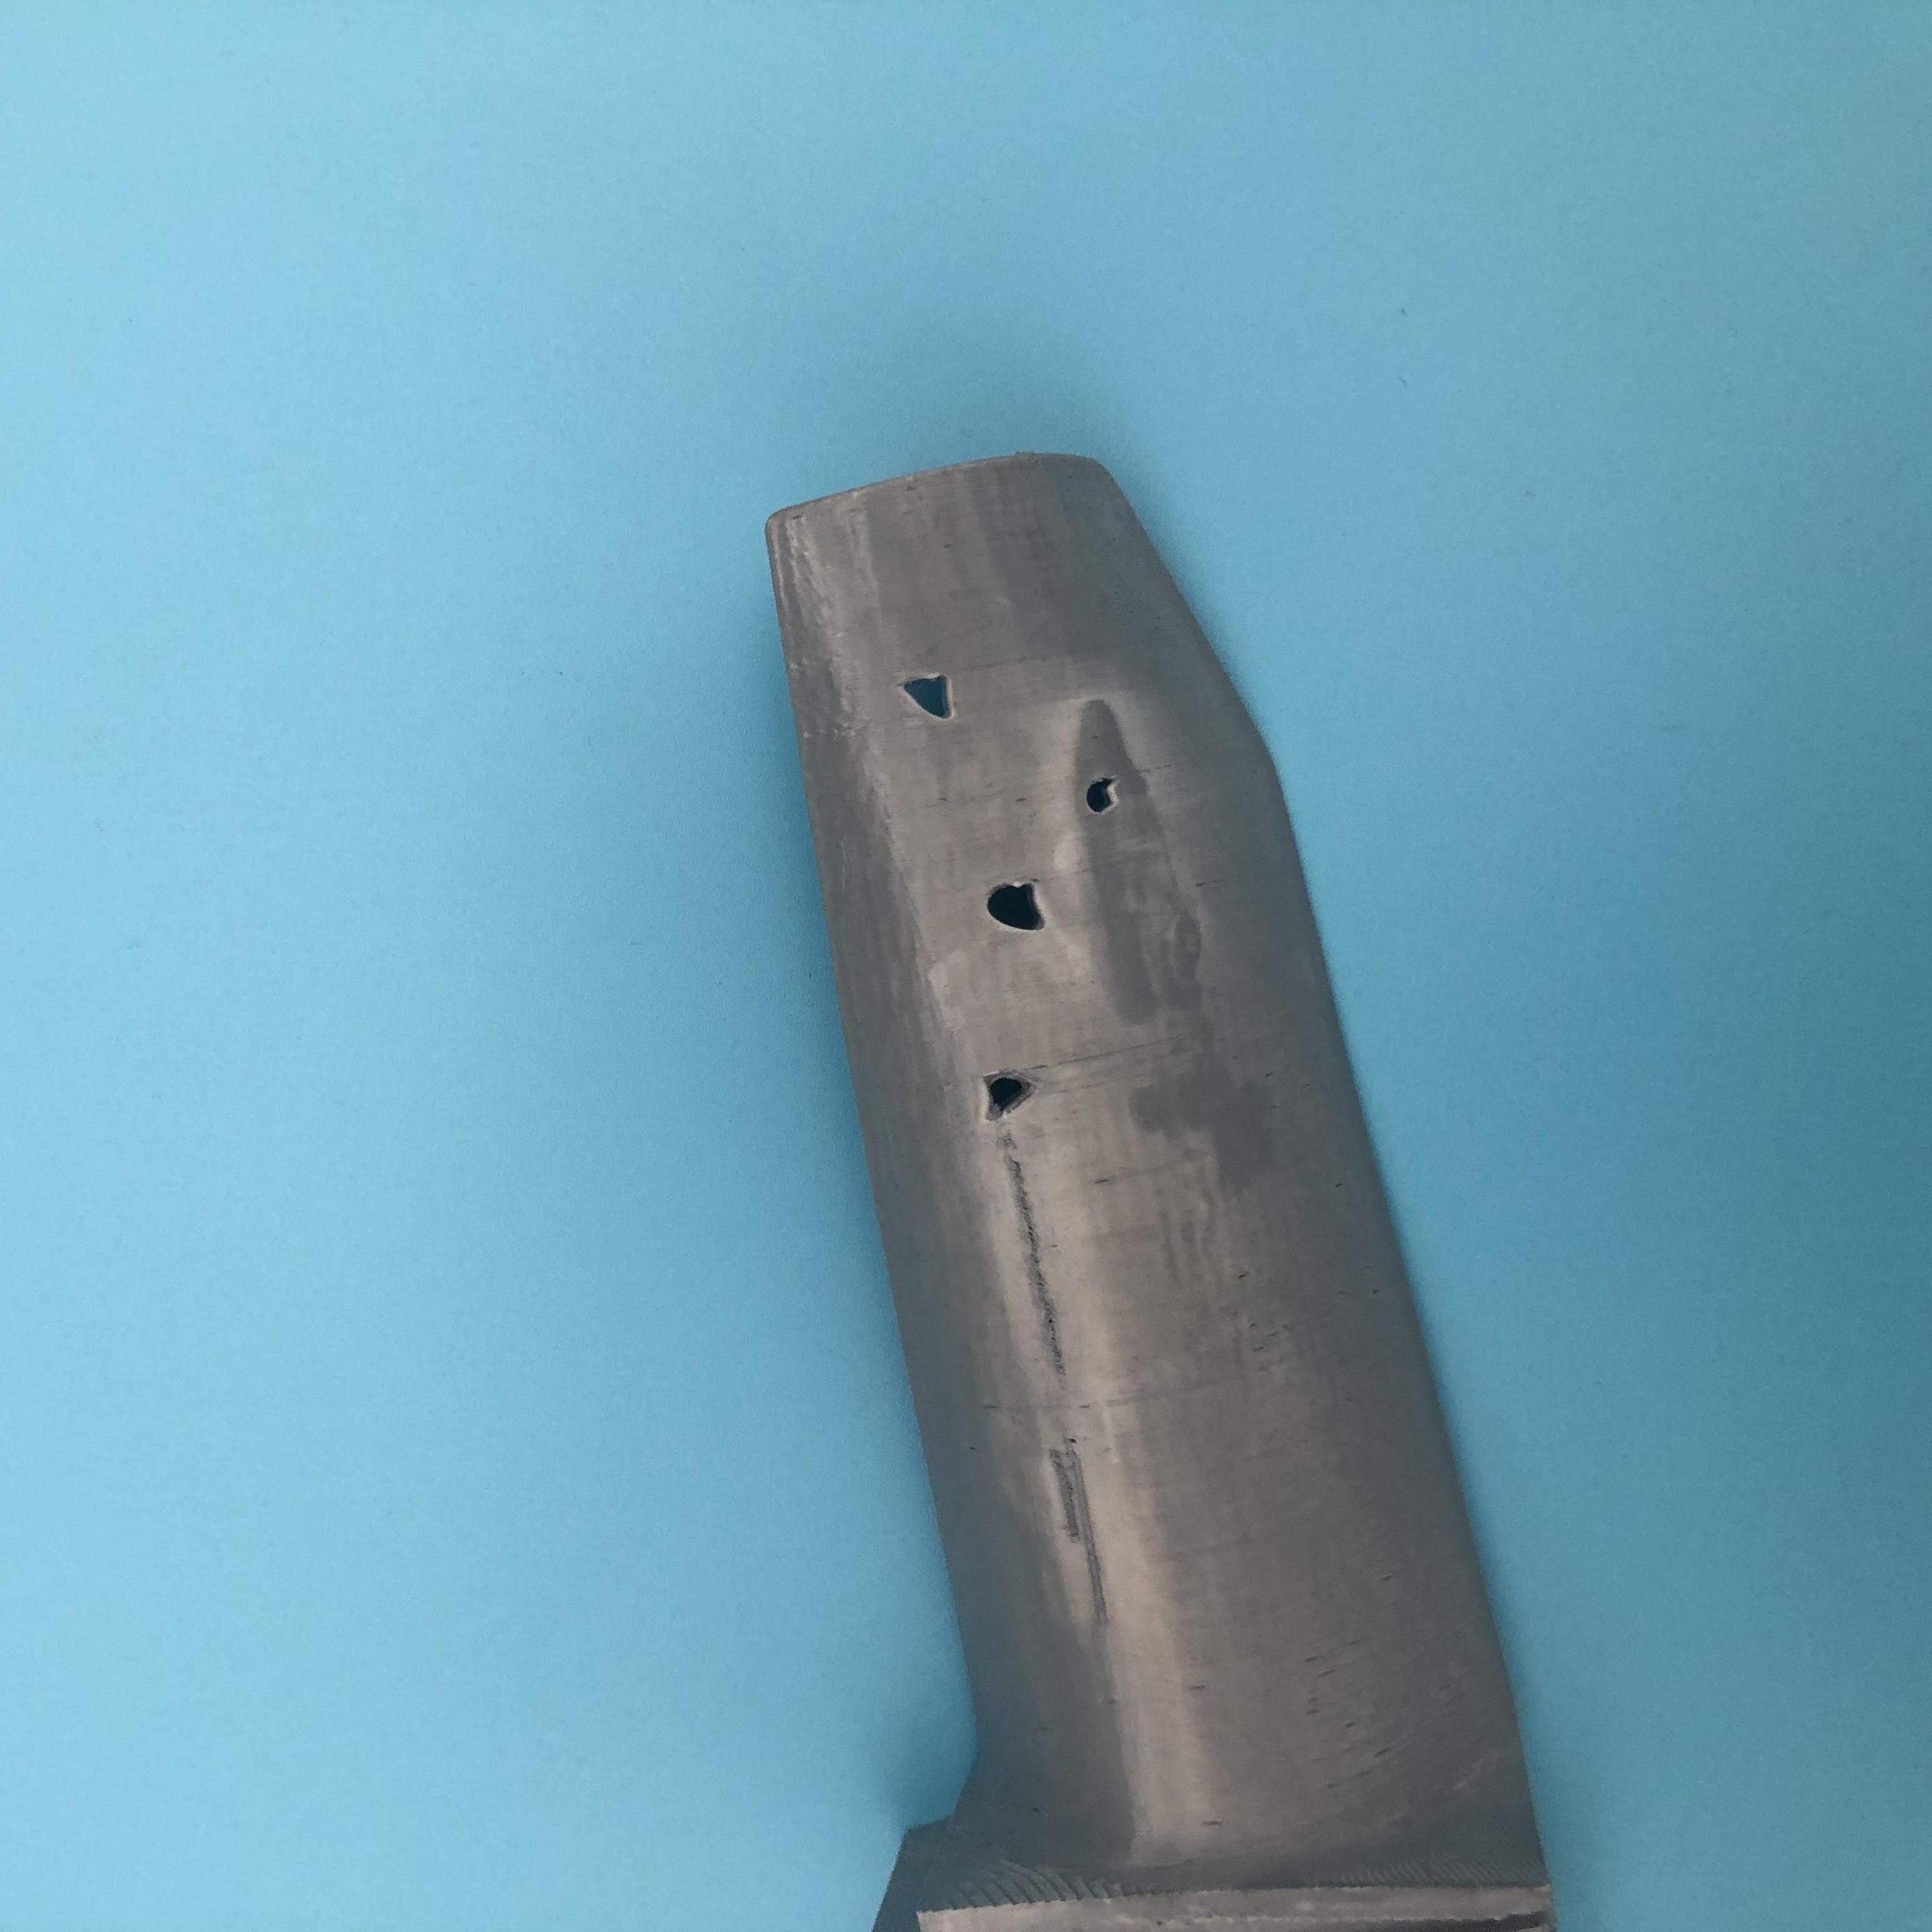breakdown: (893, 671, 1148, 1134)
